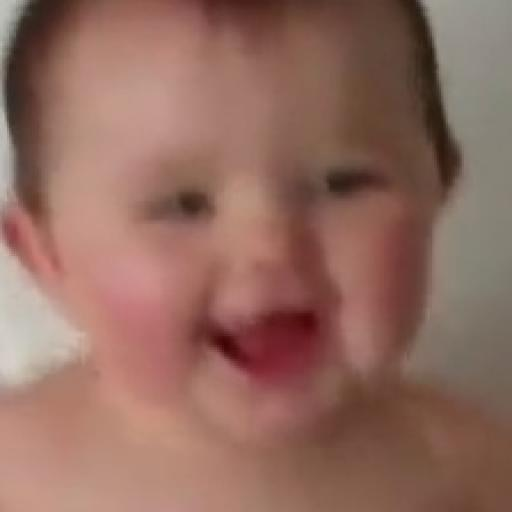Autism: (45, 44, 434, 511)
